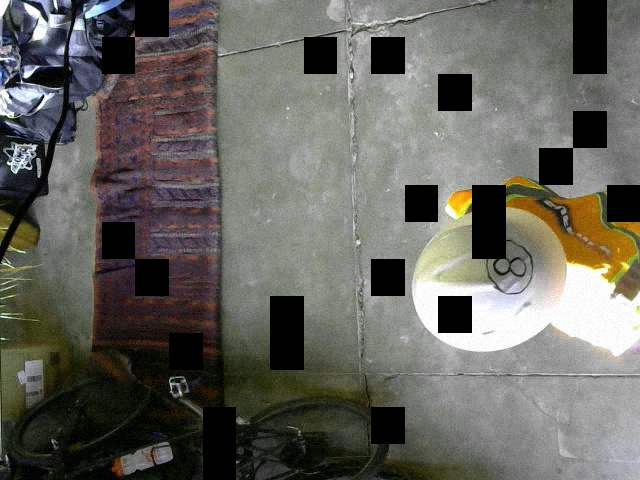eight: (484, 238, 531, 296)
